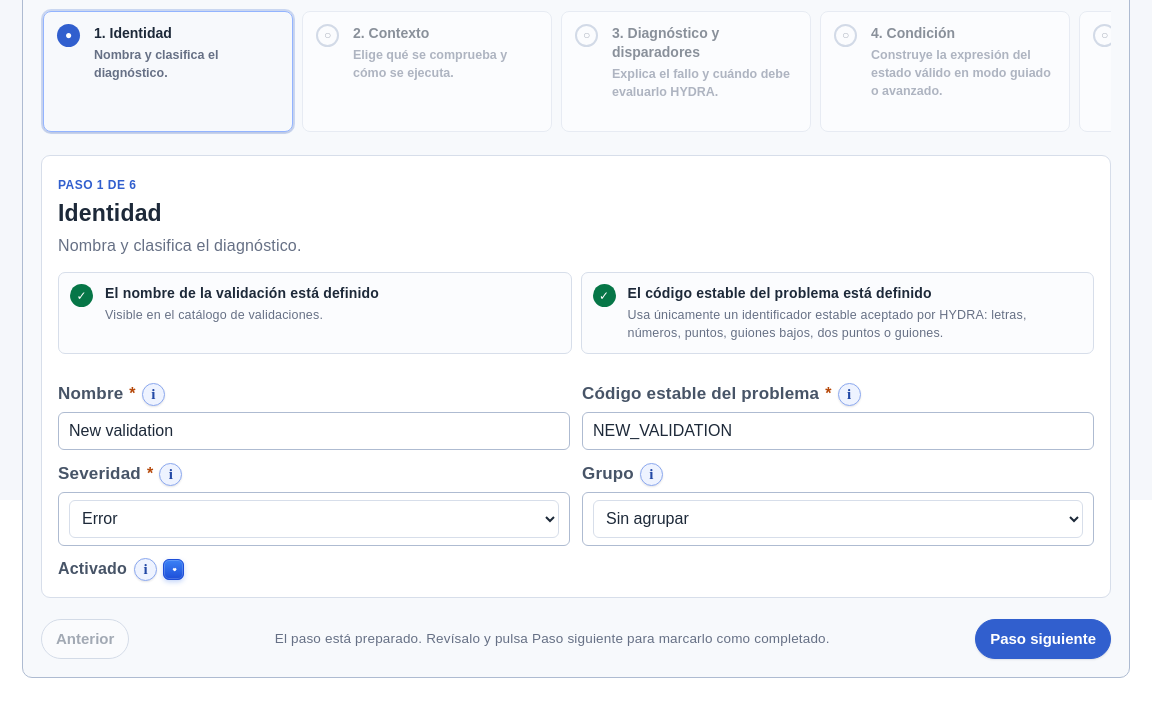
Test: validation rule form guidance › shows the step 5 and step 6 checklist details completely in Spanish
(page scrolled)
Click the button "Paso siguiente" at (1043, 639), box [975, 619, 1111, 659]
(page scrolled)
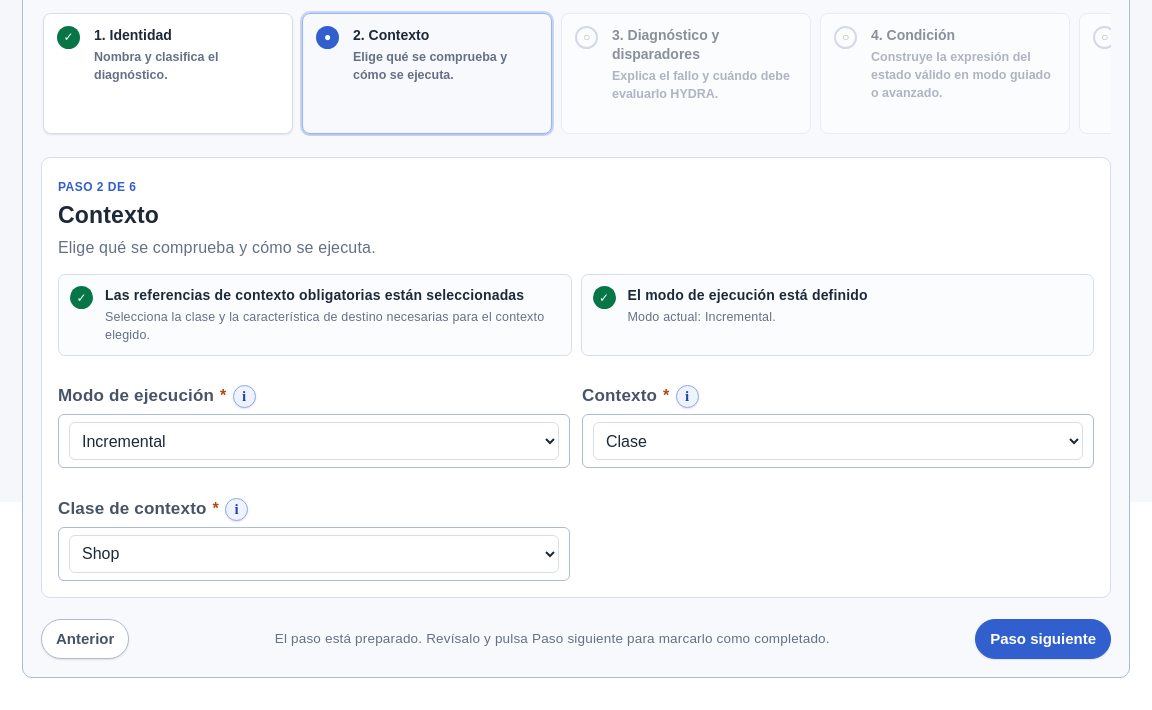
Click the button "Paso siguiente" at (1043, 639), box [975, 619, 1111, 659]
(page scrolled)
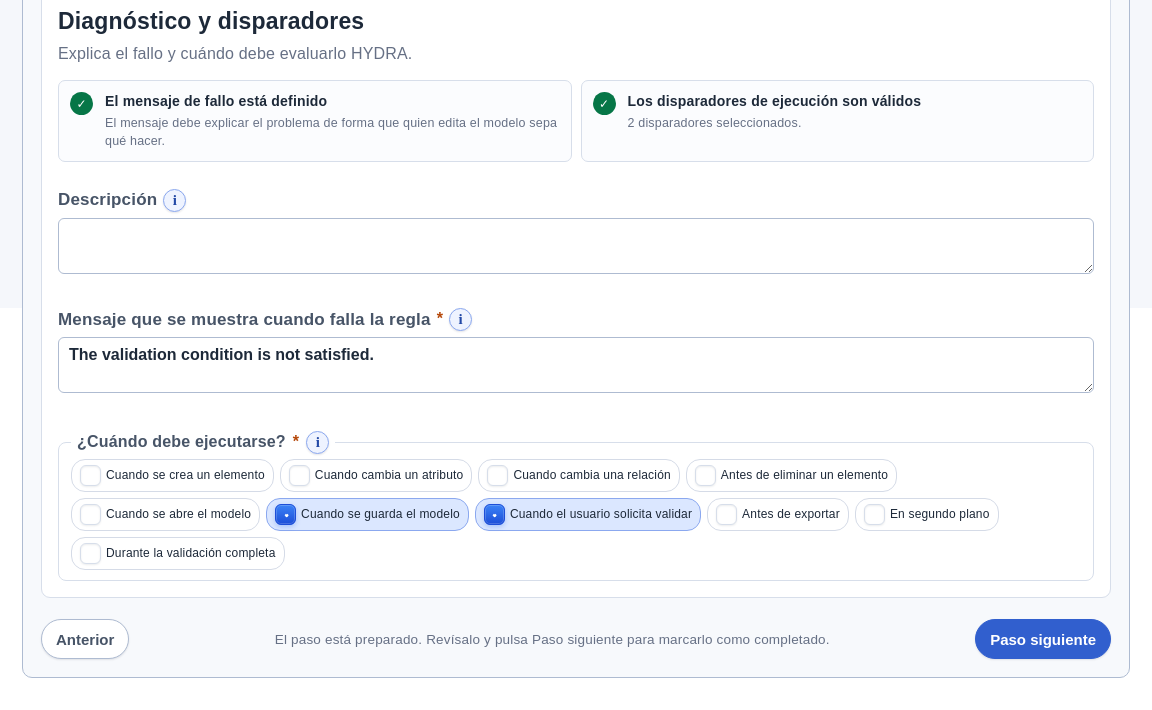
Click the button "Paso siguiente" at (1043, 639), box [975, 619, 1111, 659]
(page scrolled)
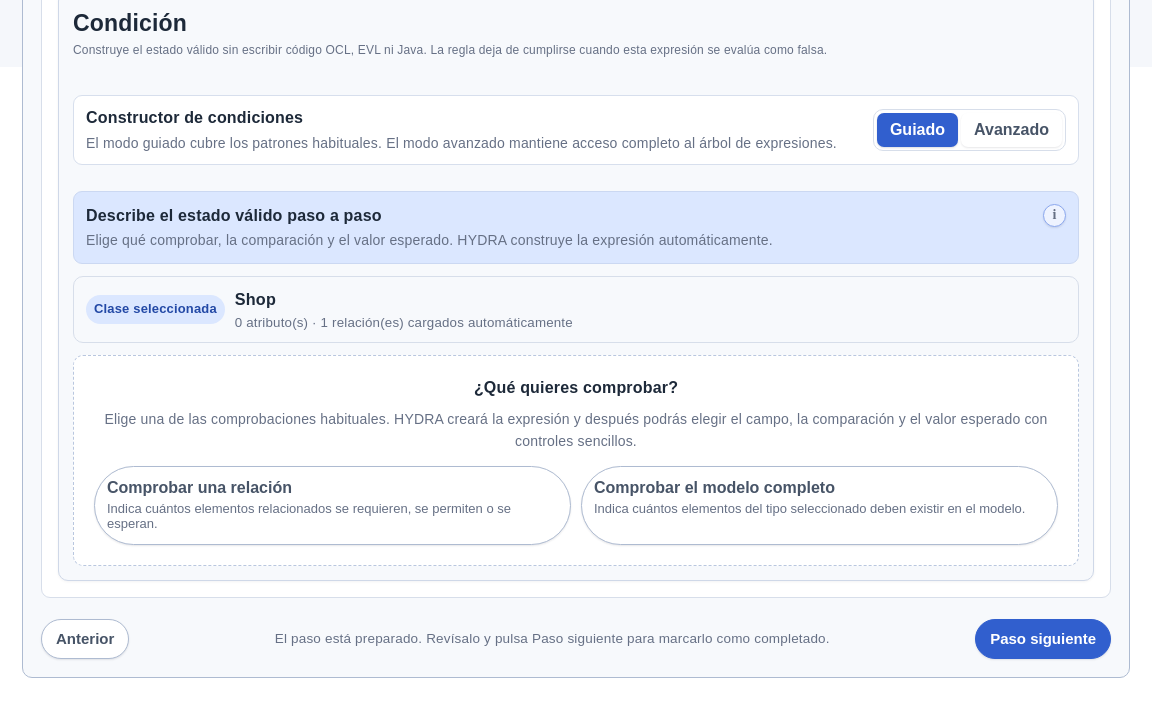
Click the button "Paso siguiente" at (1043, 638), box [975, 618, 1111, 658]
(page scrolled)
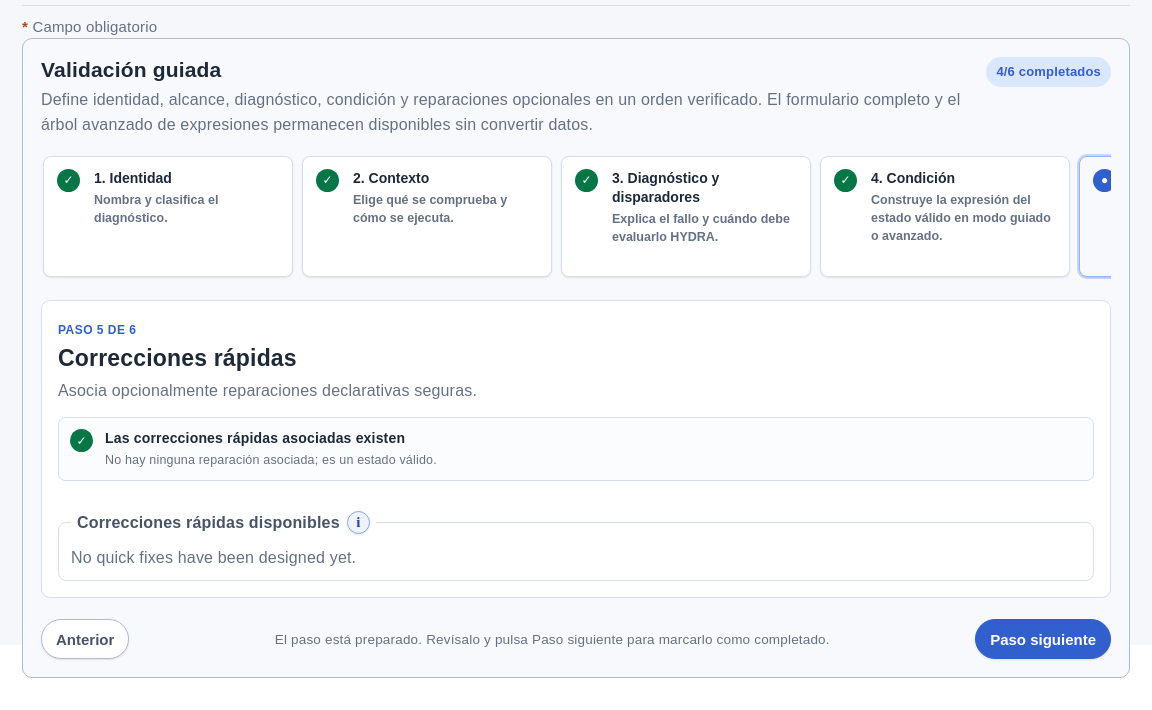
Check: the text "No hay ninguna reparación asociada; es un estado válido." is shown, box [105, 453, 437, 467]
Click the button "Paso siguiente" at (1043, 639), box [975, 619, 1111, 659]
(page scrolled)
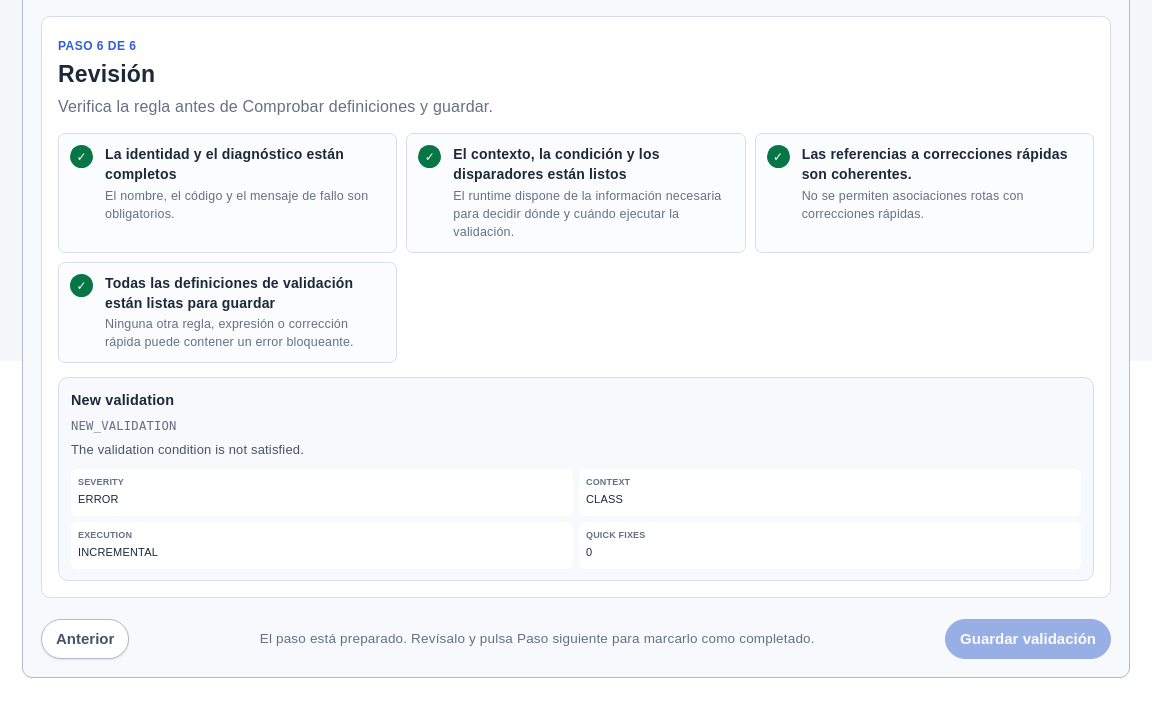
Check: the text "El nombre, el código y el mensaje de fallo son obligatorios." is shown, box [105, 187, 385, 223]
Check: the text "El runtime dispone de la información necesaria para decidir dónde y cuándo ejecutar la validación." is shown, box [453, 189, 722, 239]
Check: the text "No se permiten asociaciones rotas con correcciones rápidas." is shown, box [802, 189, 1024, 221]
